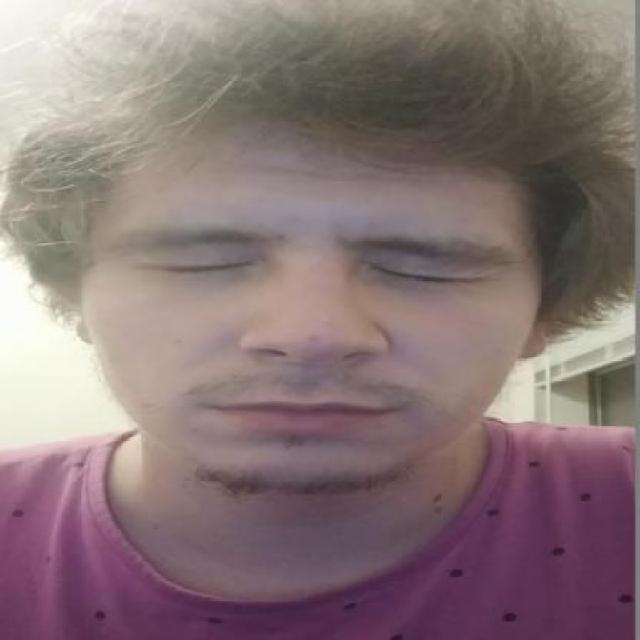drowsy: (368, 259, 492, 299), (149, 250, 256, 287)
